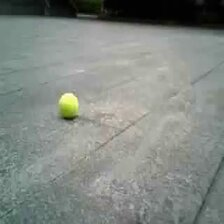tennis: (59, 93, 78, 116)
